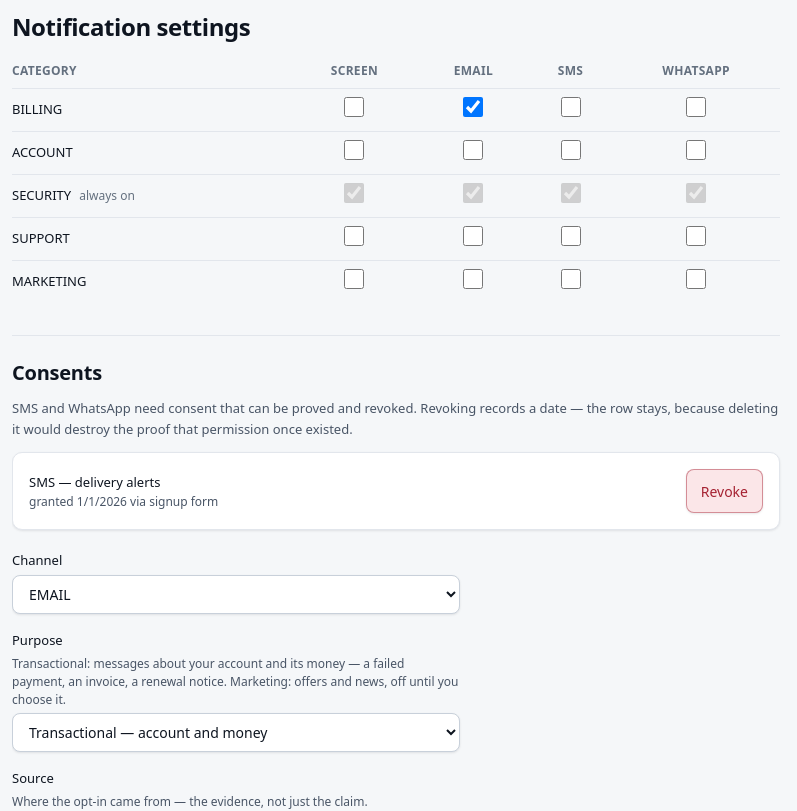
Test: a consent › is revoked without a reload, and its row stays as the proof
The image size is (797, 811).
Click the button "Revoke": coordinates (724, 491) [686, 469, 763, 513]
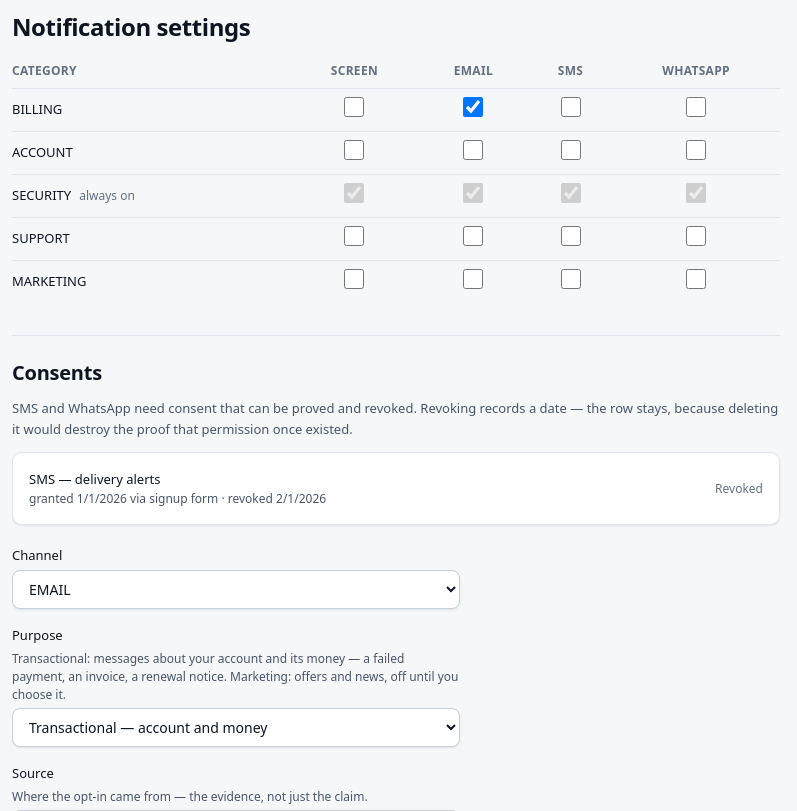
Expected: the number of list items with test id "consent" is 1, [12, 452, 780, 525]
Expected: the list item with test id "consent" shows "revoked", [715, 480, 763, 496]
